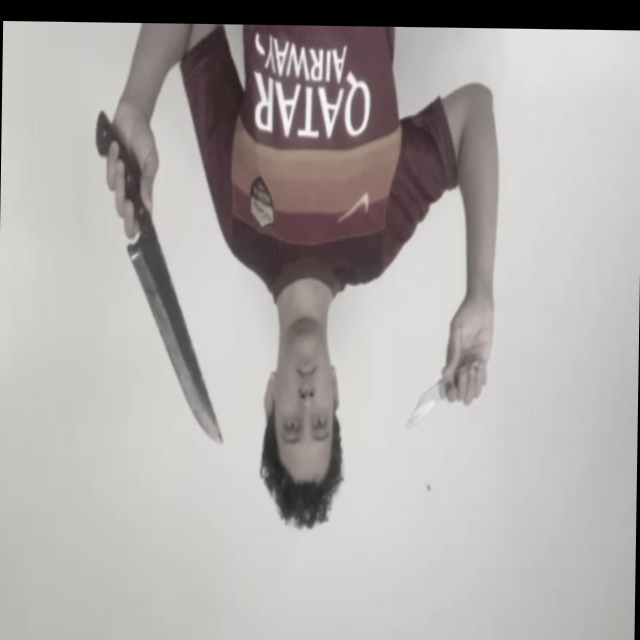Sharp-Object: (125, 240, 227, 446), (406, 379, 443, 433)
